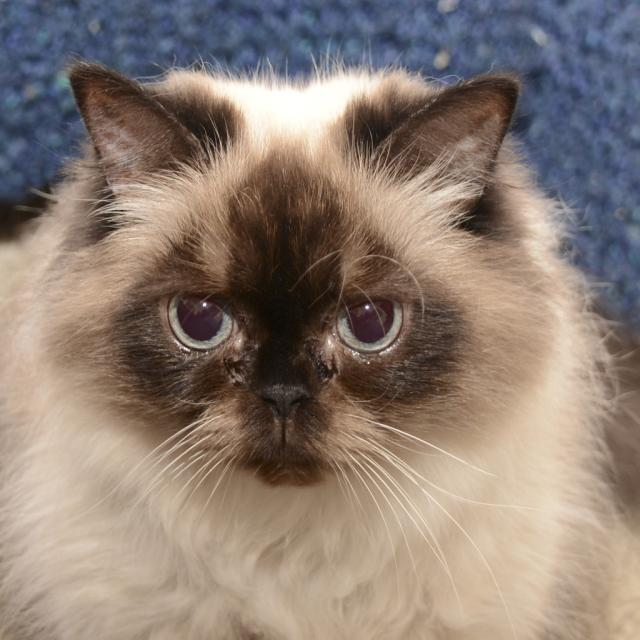Cat: (0, 30, 639, 639)
